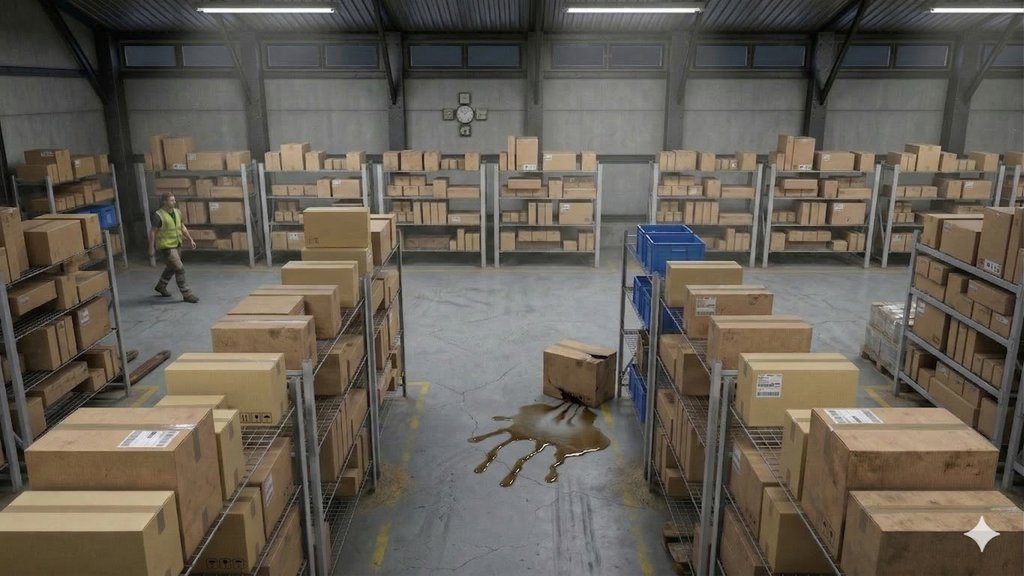person: (140, 190, 207, 307)
safety_vest: (151, 204, 193, 251)
spill: (468, 340, 613, 493)
